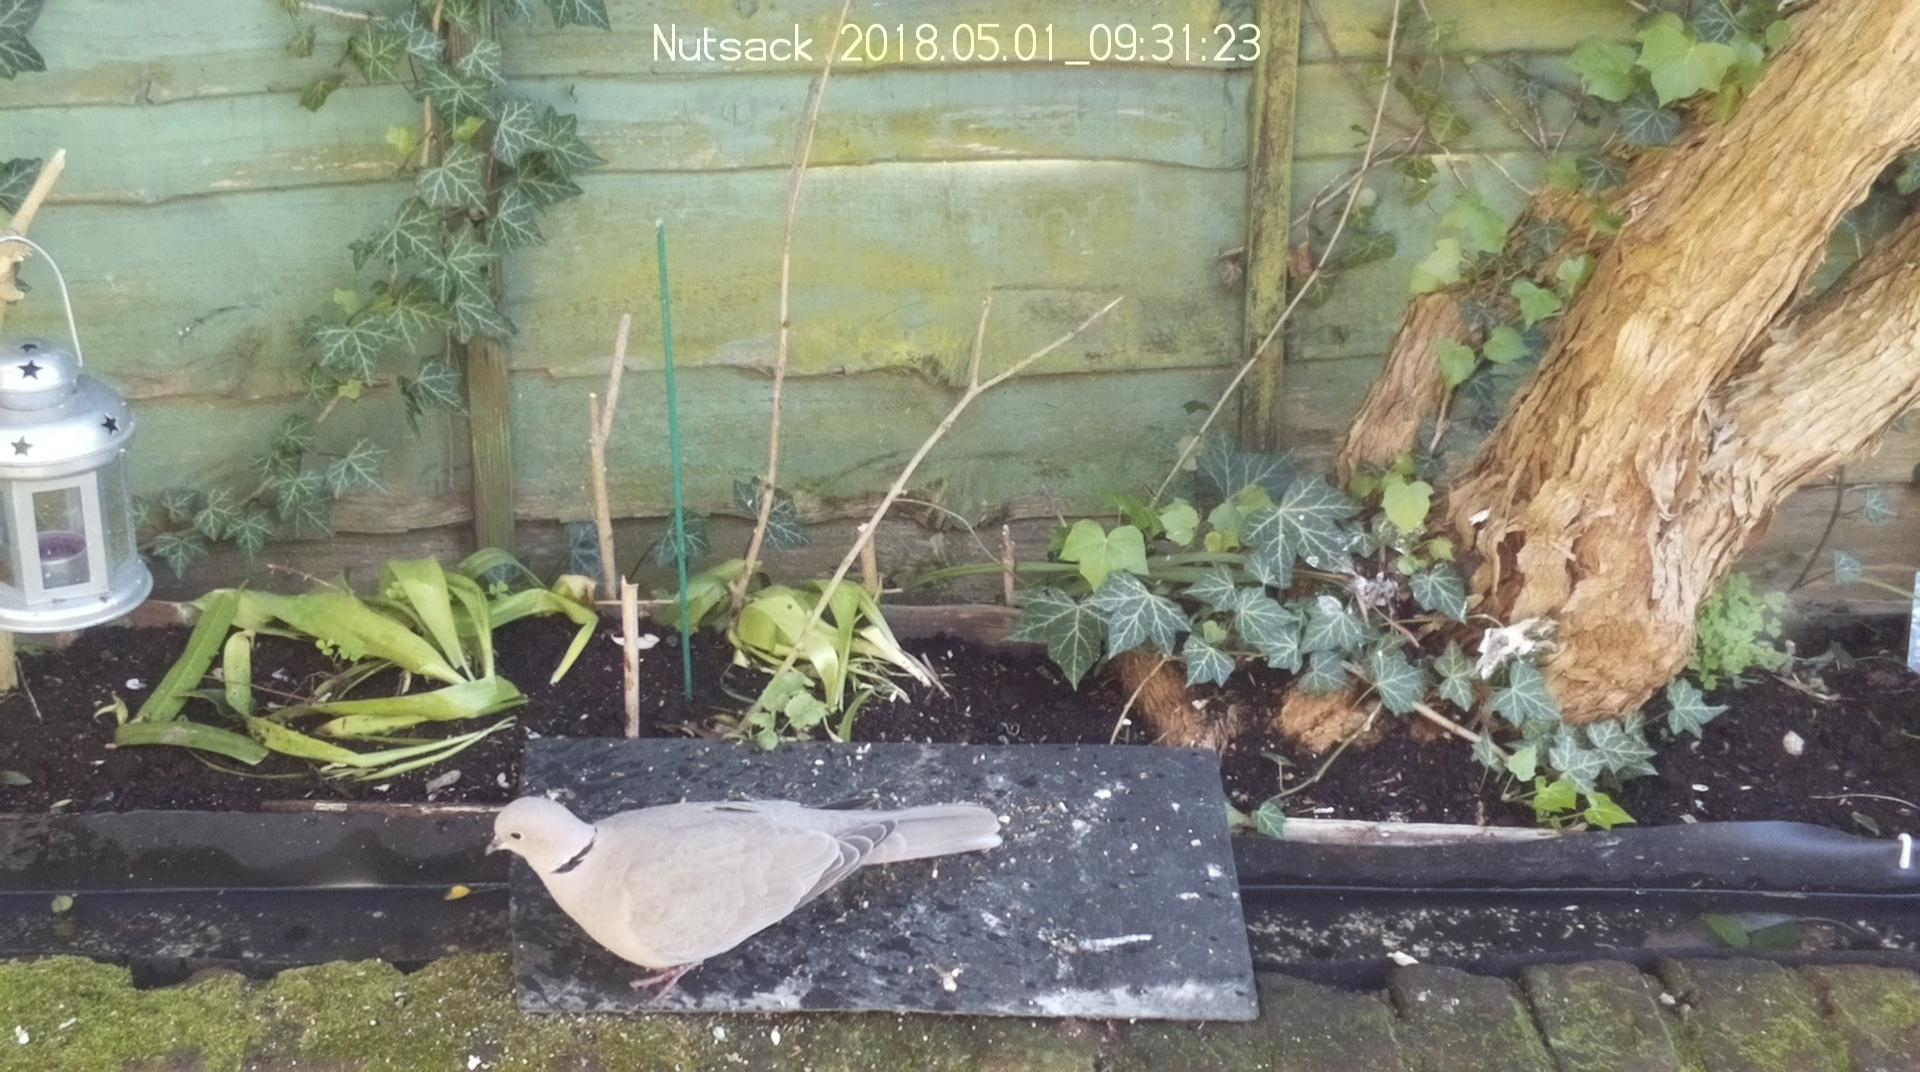collared dove: (485, 796, 1004, 1003)
